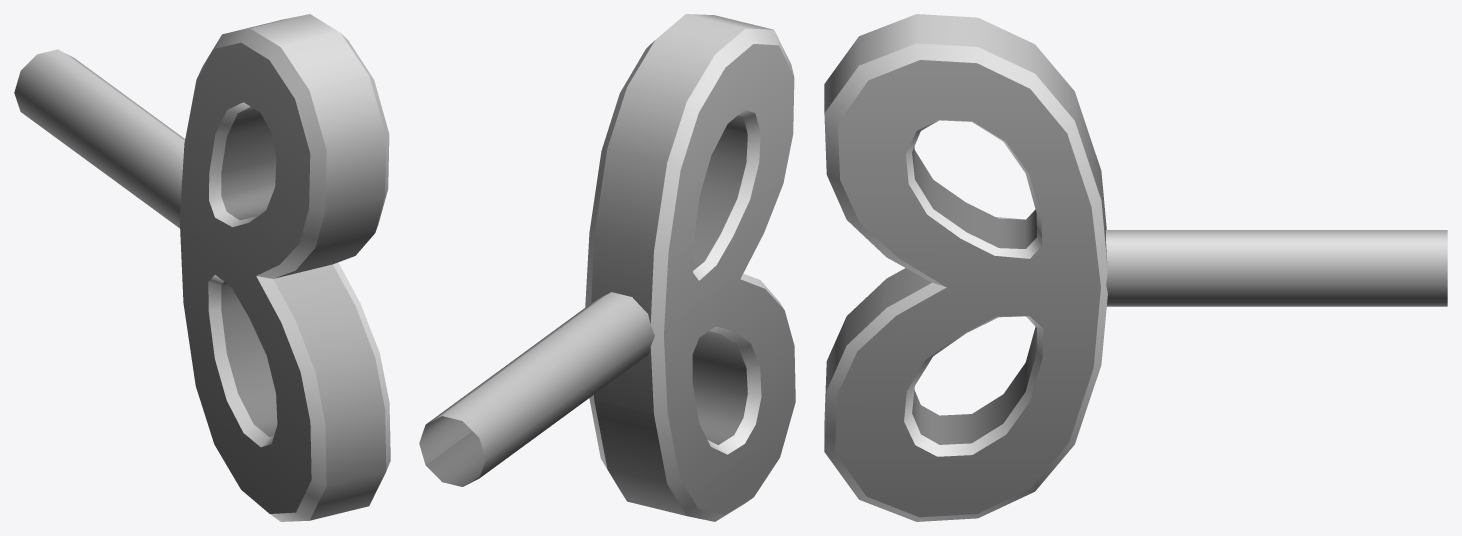
Rendered from Key.fbx.
3 views of the same model, side by side, from view 1: azimuth 30°, elevation 25°; view 2: azimuth 150°, elevation 25°; view 3: azimuth 270°, elevation 25° (orthographic).
Parts seen in each view (by area): view 1: Key; view 2: Key; view 3: Key.
Boxes of the visible parts, <box> form: Key: <box>14,14,390,521</box>; Key: <box>419,14,795,521</box>; Key: <box>824,14,1447,521</box>.
Bounding box in the file's own units: 2.06 × 11.82 × 13.95.
